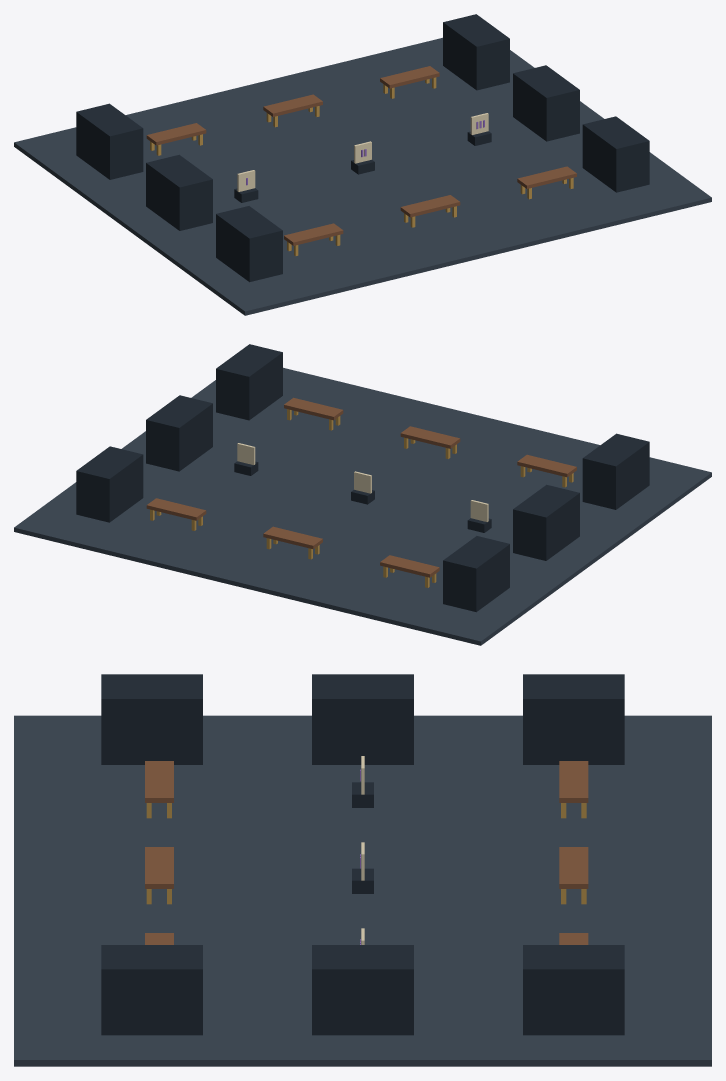
The model's file is living_ledger.glb.
The picture shows the model from 3 angles, top to bottom: view 1: azimuth 30°, elevation 25°; view 2: azimuth 150°, elevation 25°; view 3: azimuth 270°, elevation 25°; orthographic projection. The views are drawn at different scales.
Parts seen in each view (by area): view 1: living_ledger; view 2: living_ledger; view 3: living_ledger.
Boxes of the visible parts, left/top/right/bottom form: living_ledger: left=14, top=14, right=711, bottom=315; living_ledger: left=14, top=344, right=711, bottom=645; living_ledger: left=14, top=674, right=711, bottom=1066.
Bounding box in the file's own units: 112 × 11 × 96.
